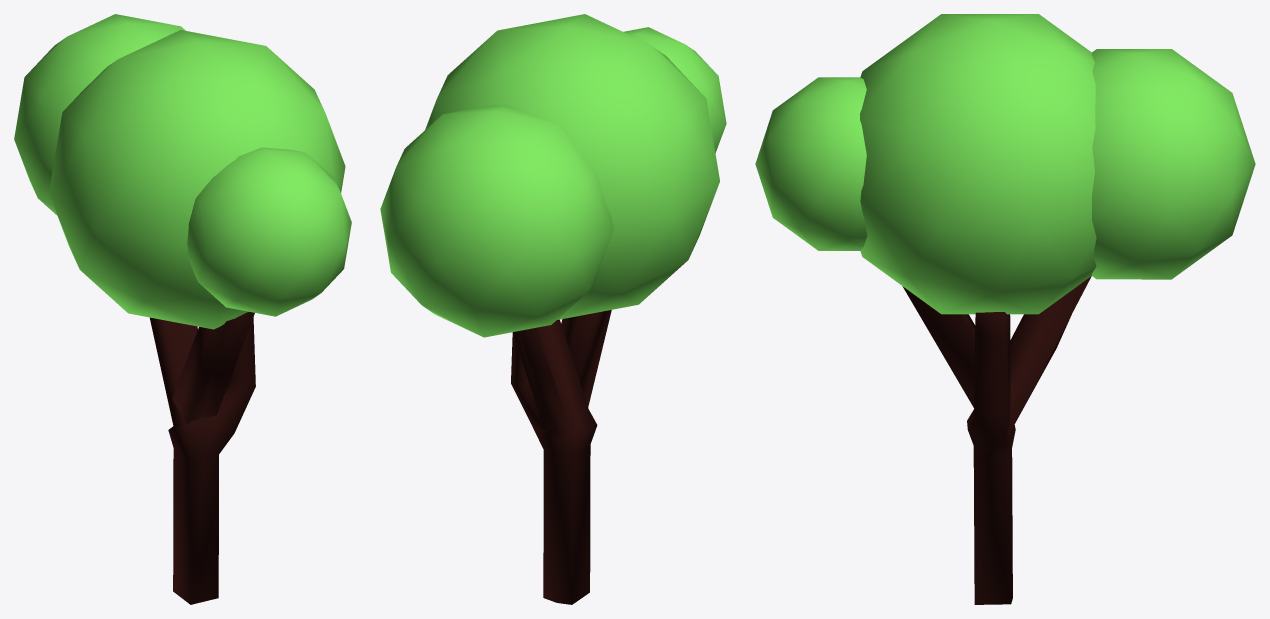
The model's file is tree.fbx.
3 views of the same model, side by side, from view 1: azimuth 30°, elevation 25°; view 2: azimuth 150°, elevation 25°; view 3: azimuth 270°, elevation 25° (orthographic). The views are drawn at different scales.
Visible parts, largest first — view 1: Icosphere.002; view 2: Icosphere.002; view 3: Icosphere.002.
Part boxes in pixels (x1,y1,x2,y2): Icosphere.002: (14,14,351,604); Icosphere.002: (380,14,726,604); Icosphere.002: (755,14,1255,604).
Bounding box in the file's own units: 280 × 594 × 466.
